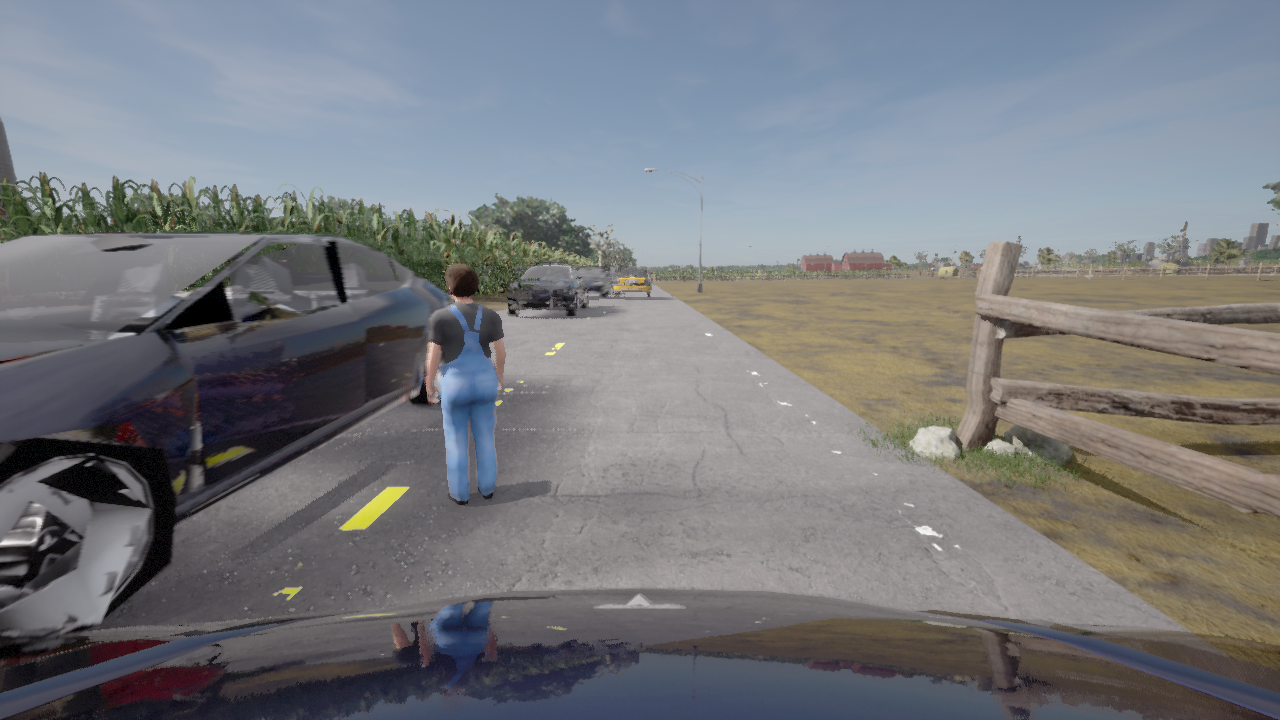cyclist: (0, 232, 454, 644), (0, 588, 1279, 719), (507, 259, 587, 316), (579, 267, 609, 296), (614, 269, 651, 291), (623, 268, 647, 290), (604, 271, 620, 285)
pedestrian: (427, 263, 506, 505)
